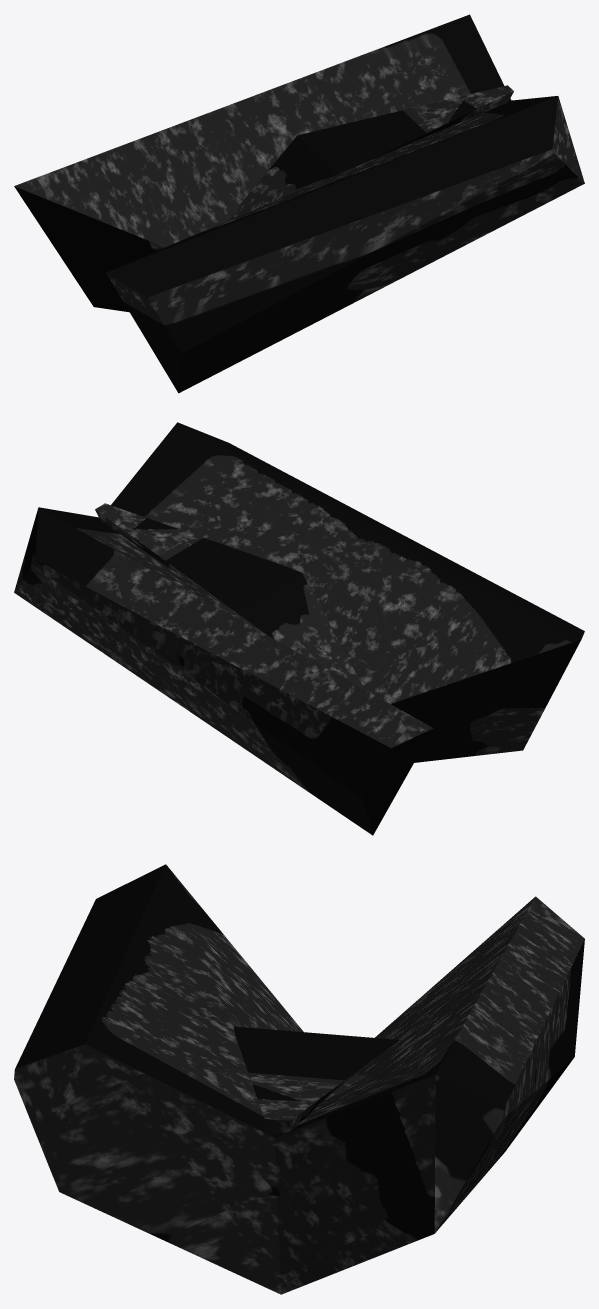
File: Ship.gltf
3 renders of one model, top to bottom at view 1: azimuth 30°, elevation 25°; view 2: azimuth 150°, elevation 25°; view 3: azimuth 270°, elevation 25°, orthographic. The views are drawn at different scales.
Parts seen in each view (by area): view 1: Cube.002; view 2: Cube.002; view 3: Cube.002.
Boxes of the visible parts, x1,y1,x2,y2 form: Cube.002: [14, 14, 584, 393]; Cube.002: [14, 422, 584, 835]; Cube.002: [14, 864, 584, 1294].
Size of the model in its own units: 4.07 by 1.88 by 2.73.
Materials: 1 (1 with a texture image).
